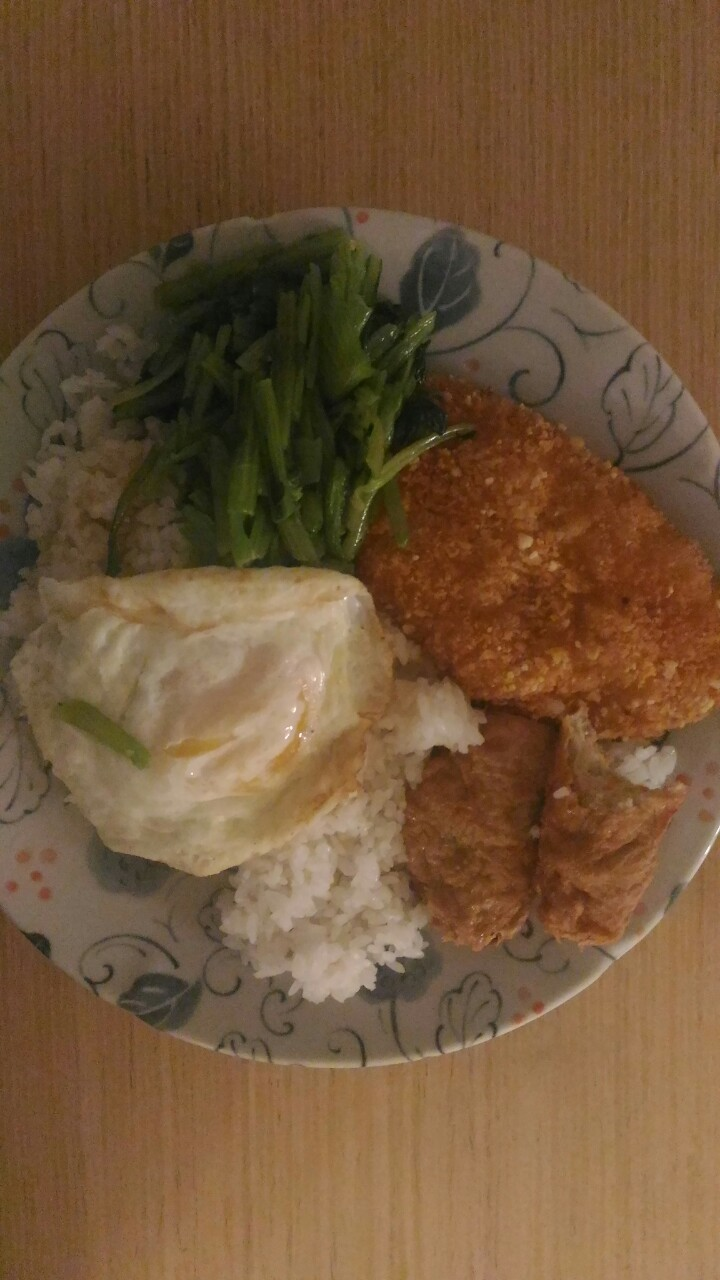fried_chicken: (374, 374, 716, 742)
fried_eggs: (16, 565, 397, 881)
rice: (245, 802, 409, 999)
water_spinach: (115, 229, 414, 568)
